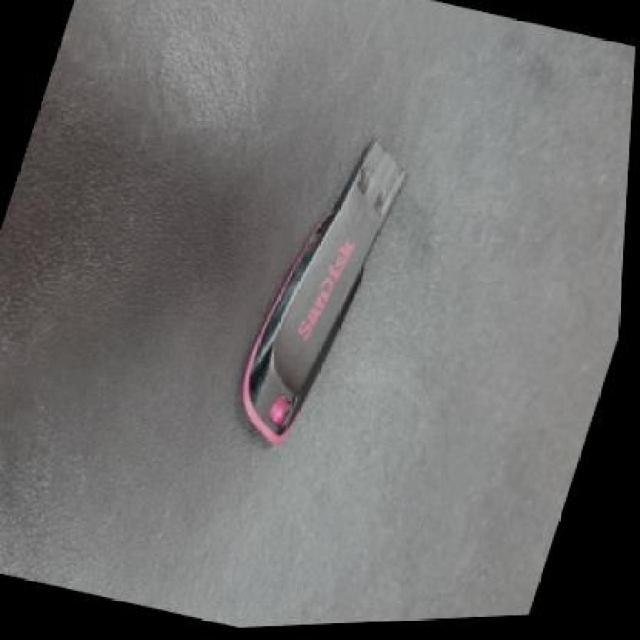Flashdisk: (226, 122, 425, 466)
